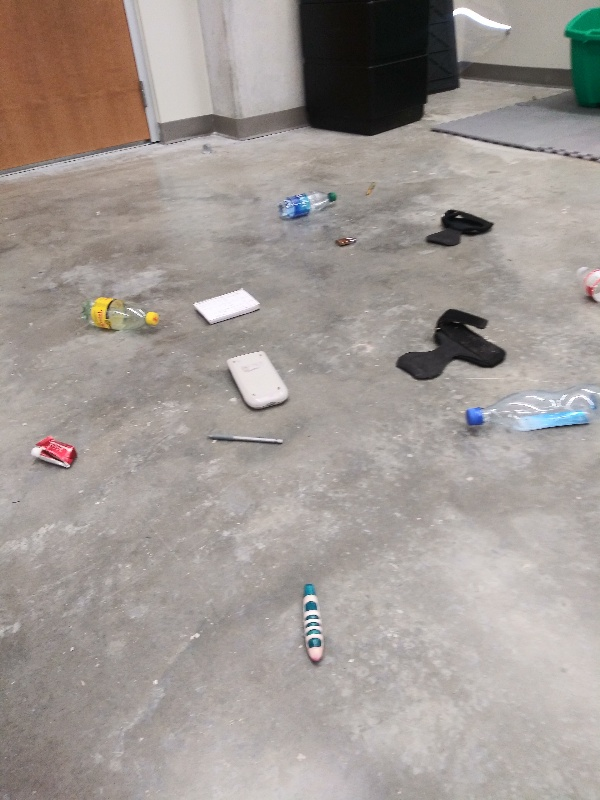bottle: (461, 381, 600, 433), (78, 295, 164, 335), (272, 188, 339, 223), (572, 262, 600, 308)
